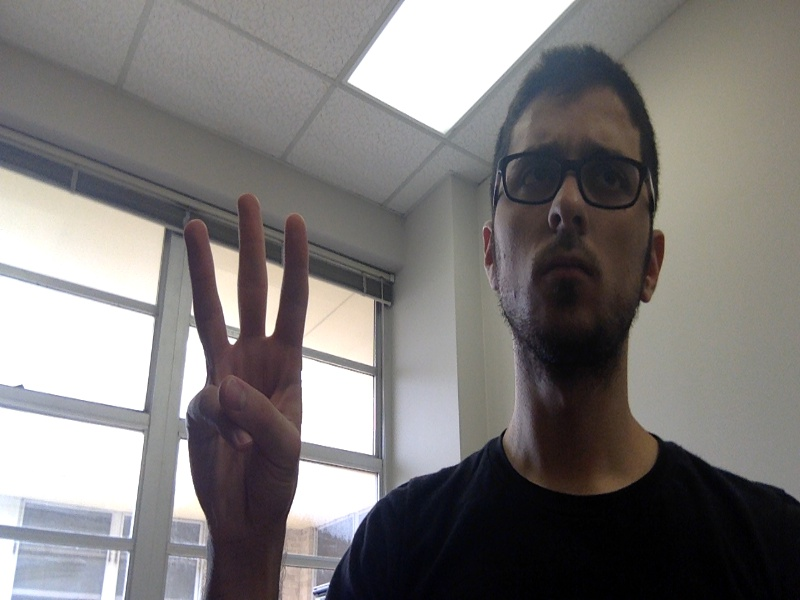3-hand: (186, 196, 309, 530)
